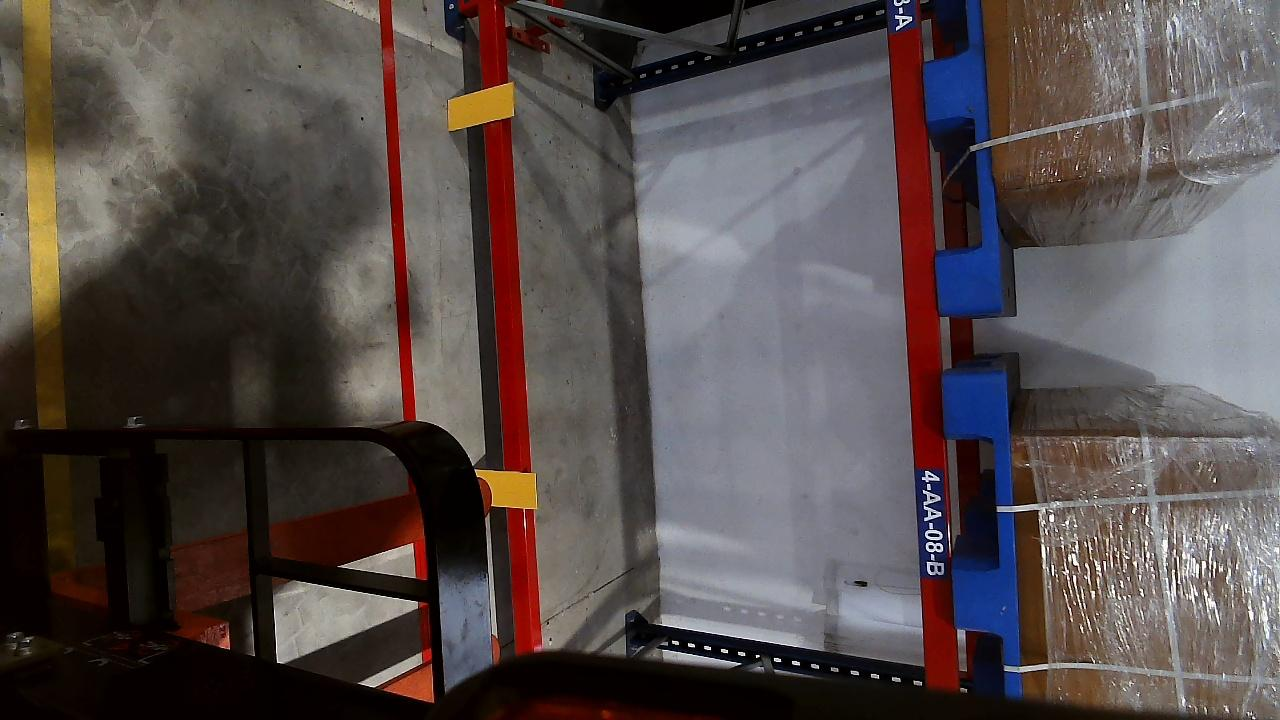h_rack: (882, 0, 952, 671), (471, 3, 526, 648)
orange_strip: (445, 83, 515, 129), (473, 471, 537, 509)
red_line: (378, 0, 418, 422)
small_pallet: (916, 1, 1008, 309), (940, 363, 1025, 680)
yellow_line: (18, 0, 65, 425)
